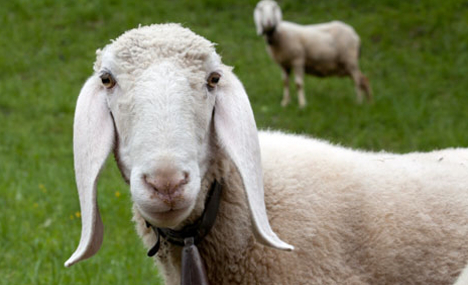koyun: (67, 28, 248, 268), (251, 1, 378, 109)
